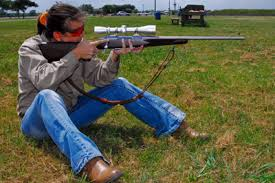Gun: (94, 25, 220, 54)
